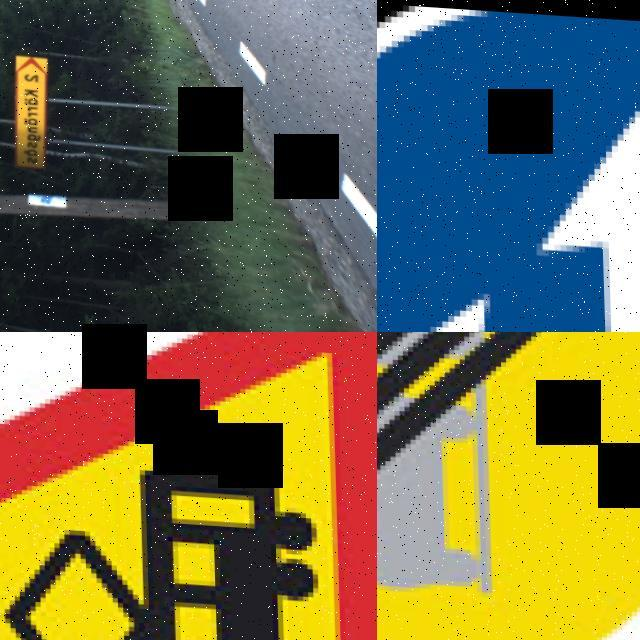109: (377, 332, 640, 640)
146: (0, 332, 377, 640)
173: (6, 48, 54, 168)
Turn left or straight ahead: (377, 0, 640, 332)
